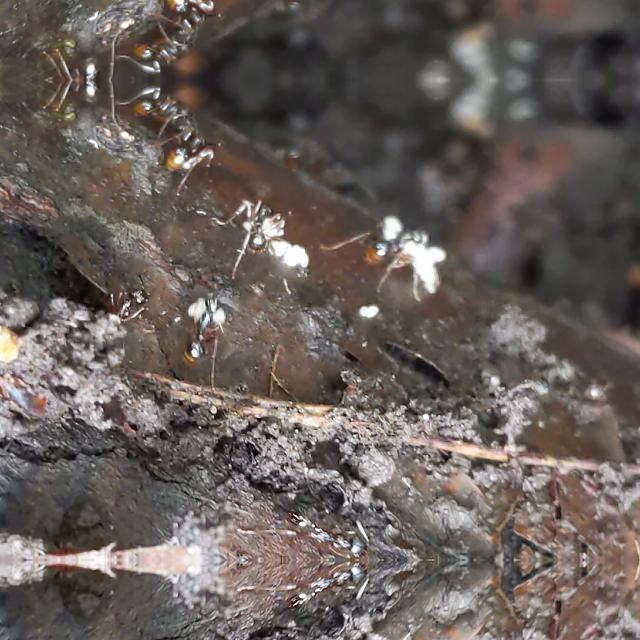Apheanogaster: (118, 80, 230, 178), (118, 0, 230, 80), (274, 503, 382, 559), (274, 561, 382, 617), (358, 212, 434, 288), (220, 188, 290, 262), (172, 292, 236, 368), (52, 80, 122, 128), (52, 32, 122, 80), (100, 272, 152, 334)
